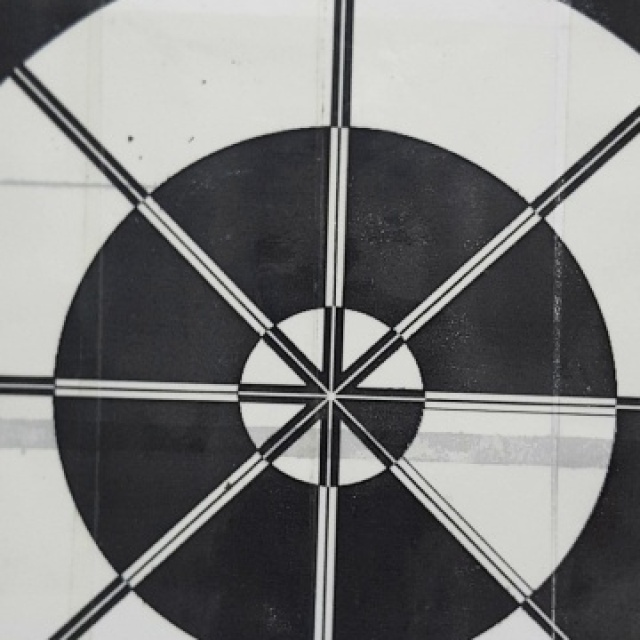landing-zone: (223, 282, 439, 493)
